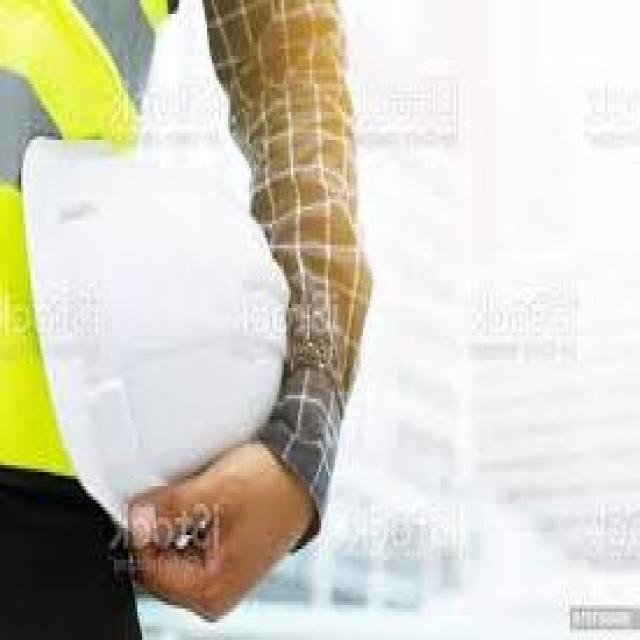Safety-Helmet: (1, 7, 414, 577), (21, 124, 291, 536)
